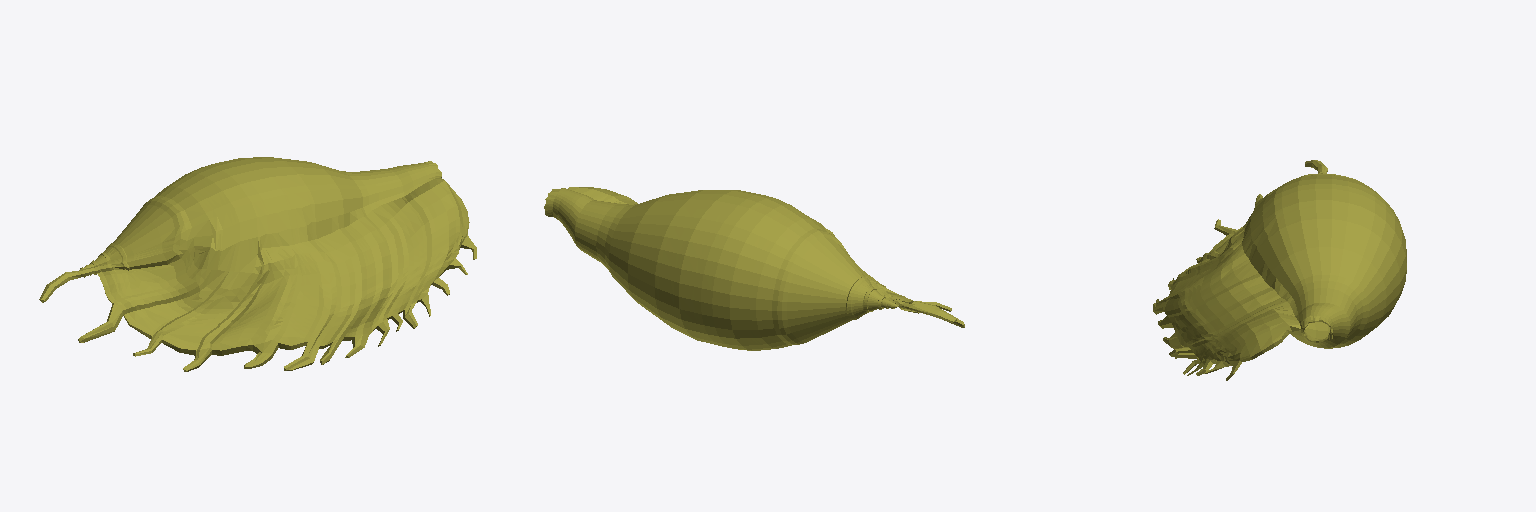
Rendered from lambis_truncata_shell.obj.
The picture shows the model from 3 angles: view 1: azimuth 30°, elevation 25°; view 2: azimuth 150°, elevation 25°; view 3: azimuth 270°, elevation 25°; orthographic projection.
Visible parts, largest first — view 1: Shell; view 2: Shell; view 3: Shell.
Part boxes in pixels (bbox=[...]): Shell: bbox=[39, 157, 476, 371]; Shell: bbox=[544, 187, 964, 350]; Shell: bbox=[1153, 160, 1406, 380].
Size of the model in its own units: 0.3001 by 0.098 by 0.1638.